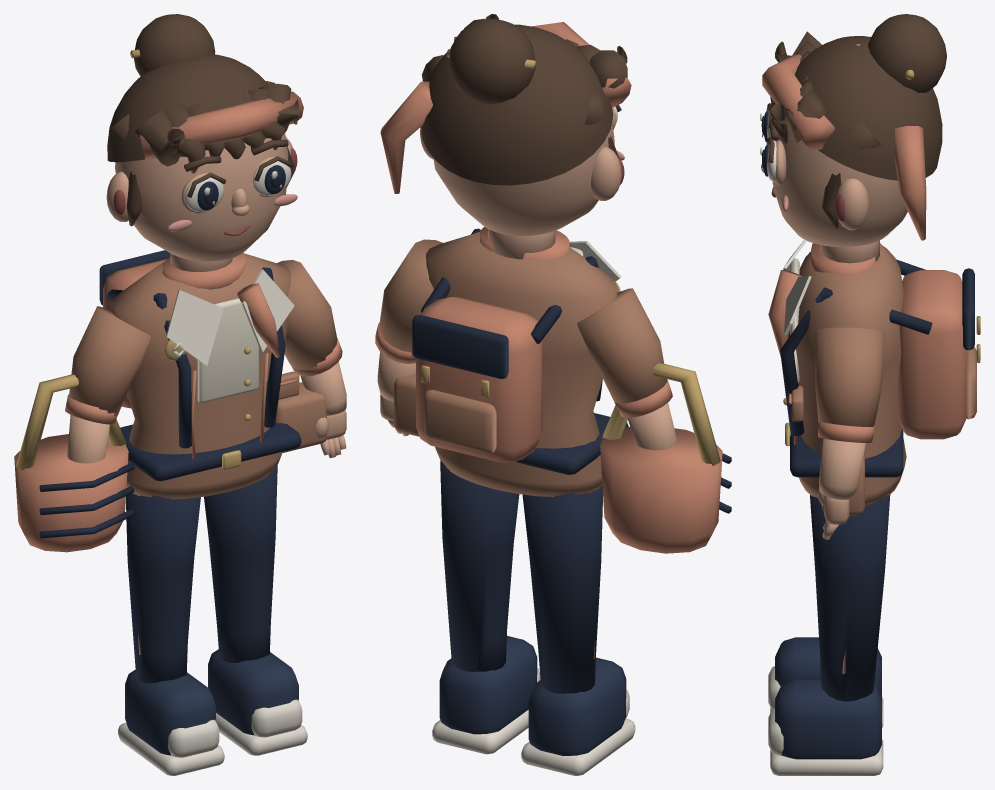
Rendered from npc_pirateshore_trainer_1.glb.
3 renders of one model, left to right at view 1: azimuth 30°, elevation 25°; view 2: azimuth 150°, elevation 25°; view 3: azimuth 270°, elevation 25°, orthographic. The views are drawn at different scales.
Parts seen in each view (by area): view 1: figure.042; view 2: figure.042; view 3: figure.042.
Part boxes in pixels (x1,y1,x2,y2): figure.042: [14, 14, 346, 775]; figure.042: [375, 14, 731, 775]; figure.042: [760, 14, 980, 775].
Size of the model in its own units: 0.7622 by 1.58 by 0.435.
